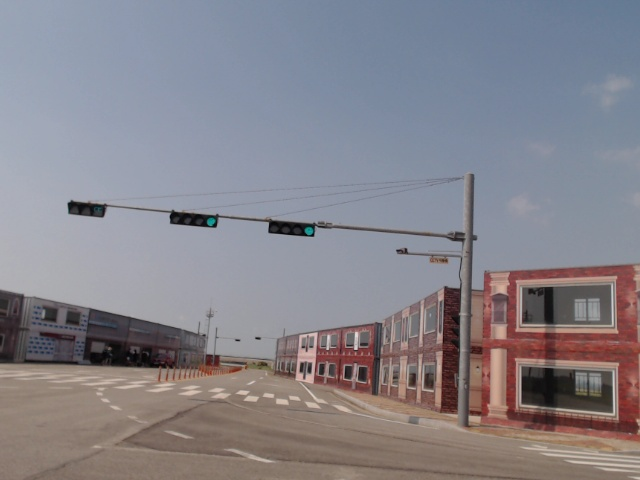straight_green_4: (269, 220, 318, 238), (170, 211, 219, 229)
